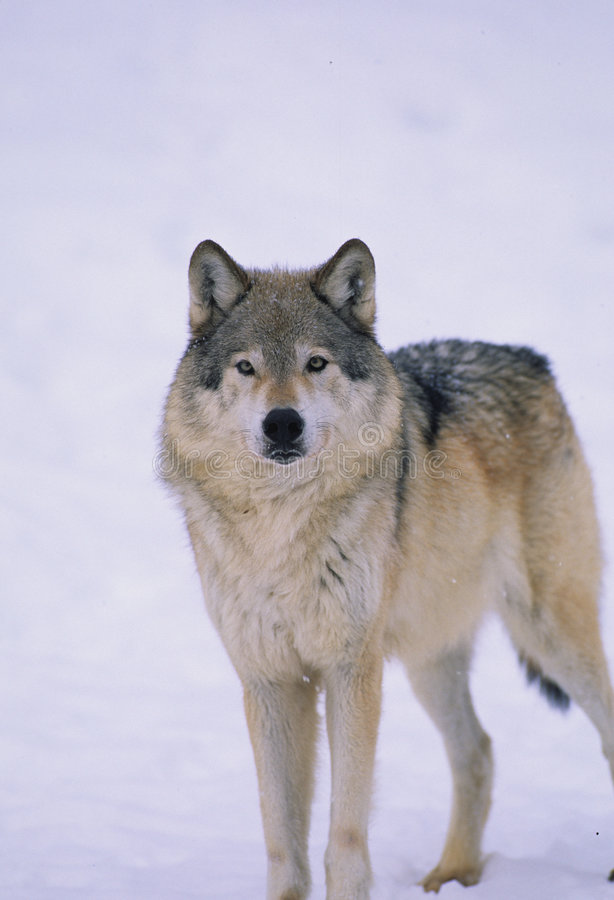Lobo: (138, 221, 612, 879)
